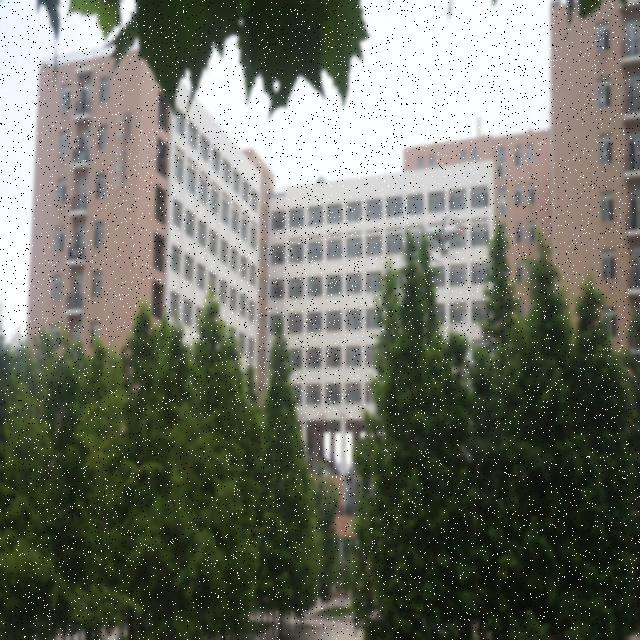UAV: (409, 215, 466, 262)
